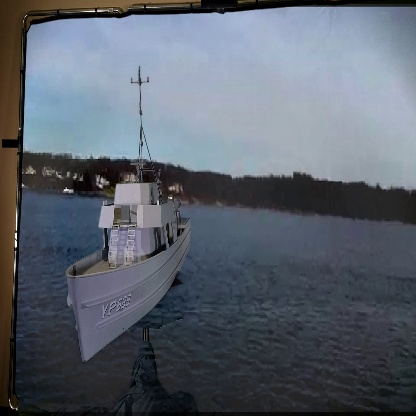YP689: (65, 61, 192, 365)
